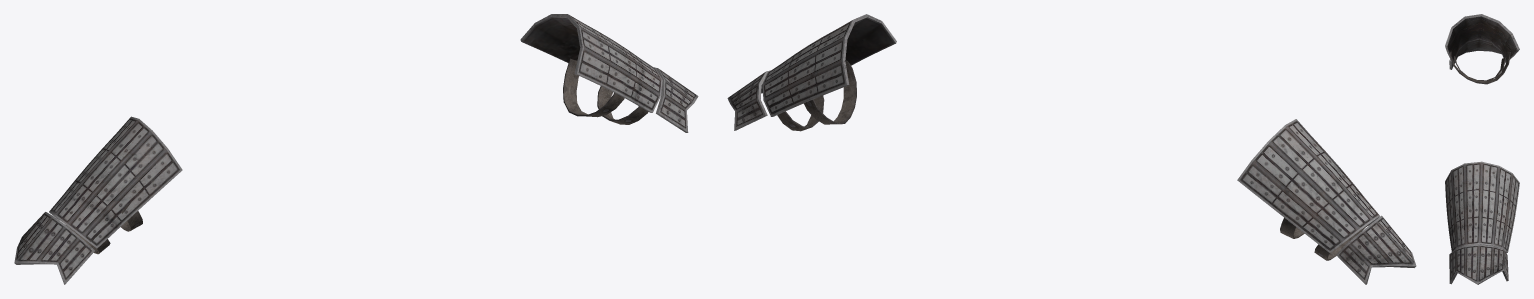
The model's file is sk_dwarf_iron_bracer_med_b1.fbx.
The picture shows the model from 3 angles, left to right: view 1: azimuth 30°, elevation 25°; view 2: azimuth 150°, elevation 25°; view 3: azimuth 270°, elevation 25°; orthographic projection. The views are drawn at different scales.
Visible parts, largest first — view 1: sk_dwarf_iron_bracer_med_b1; view 2: sk_dwarf_iron_bracer_med_b1; view 3: sk_dwarf_iron_bracer_med_b1.
Boxes of the visible parts, left/top/right/bottom form: sk_dwarf_iron_bracer_med_b1: left=14, top=14, right=698, bottom=284; sk_dwarf_iron_bracer_med_b1: left=727, top=14, right=1416, bottom=284; sk_dwarf_iron_bracer_med_b1: left=1445, top=14, right=1519, bottom=284.
Bounding box in the file's own units: 1.34 × 0.1805 × 0.2376.
1 material, 1 textured.
